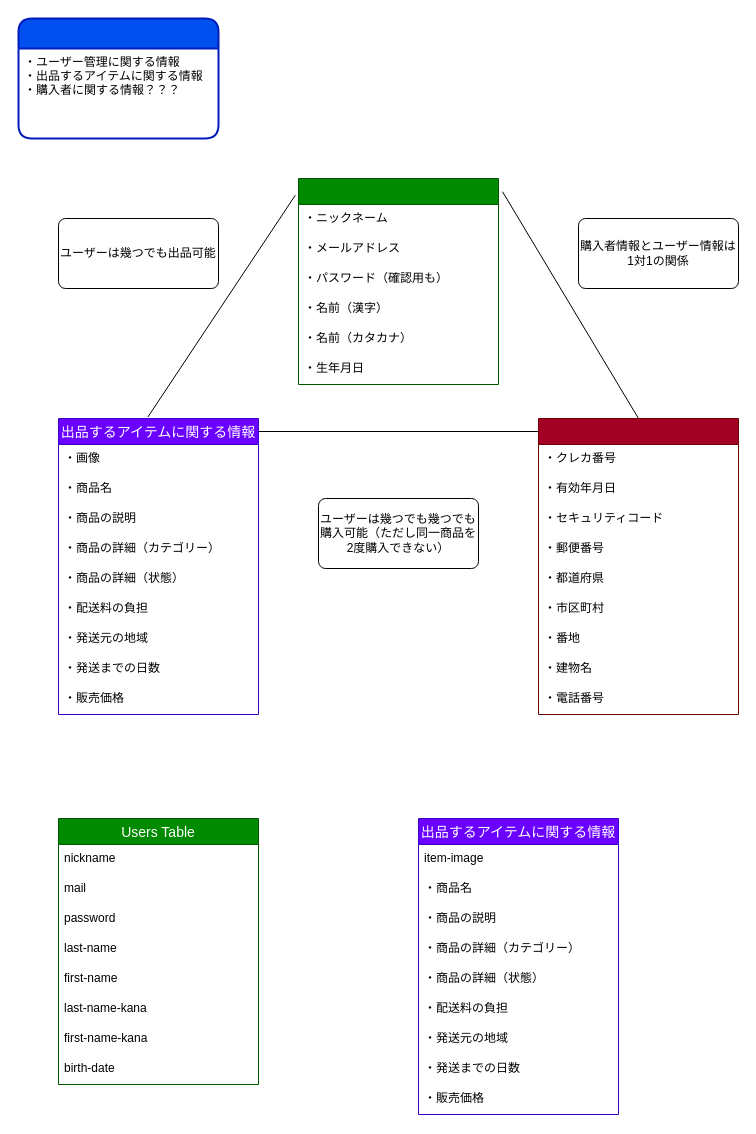
Image size: 756x1134. Some labels were removed from this diagram. The shapes that lost their labels are listed below. From the top down, each one's box as (x1, y1, x2, y2) in pixels, then its label:
(17, 17, 219, 139): Entity
(298, 178, 498, 384): ユーザー管理に関する情報
(538, 418, 738, 714): 購入者に関する情報
